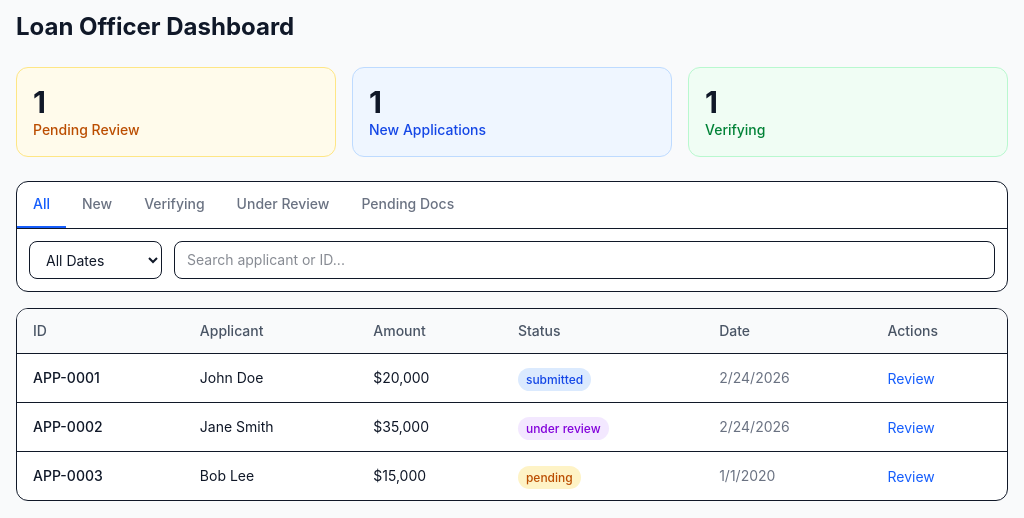
Test: LoanOfficerDashboard › filters by search term
Expected: the element with test id "filters" is shown, [17,229,1007,291]
Type "Jane" into the field labelled "Search" at coordinates (584, 260), box [174,241,995,279]
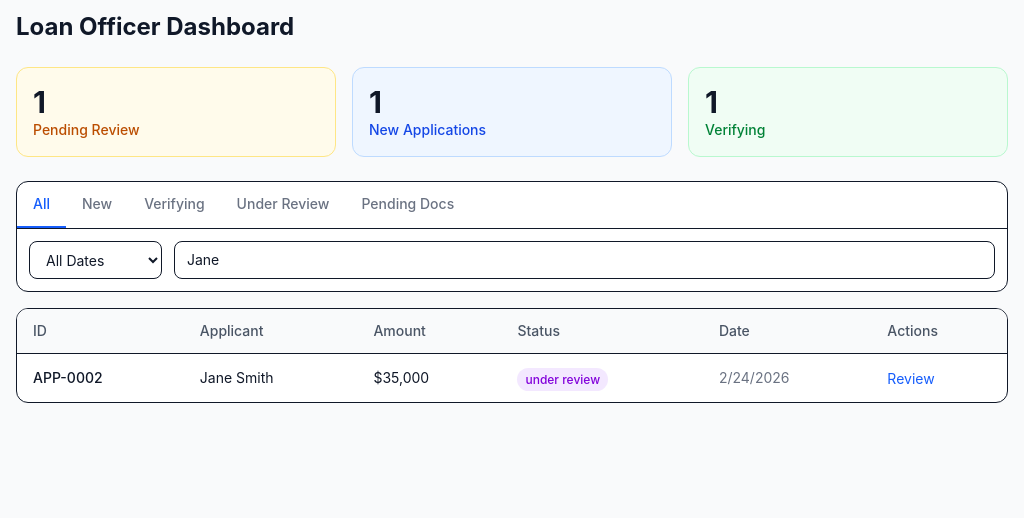
Expected: the number of rows with test id "app-row" is 1, [17,354,1007,402]
